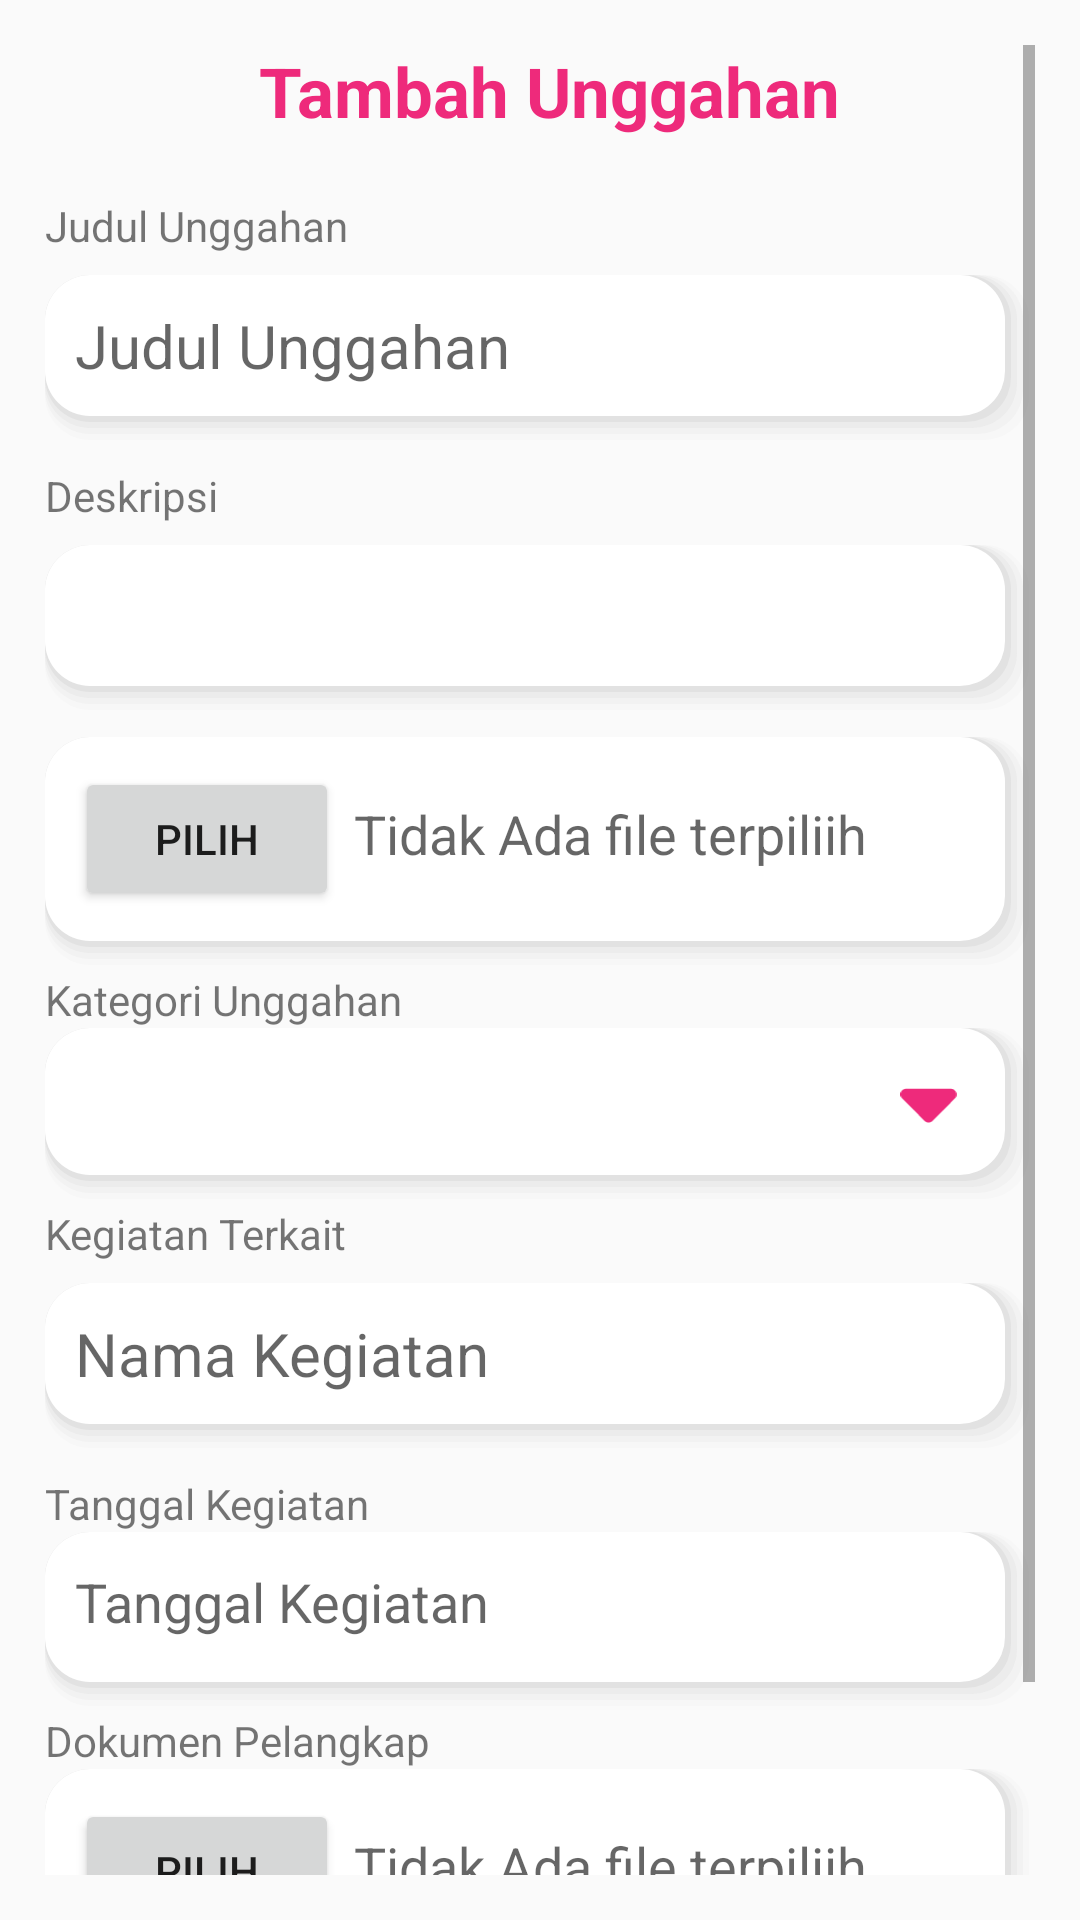

Screen size 1080px x 1920px. Icon name, then its box in pixels as Rect(x1, y1, x2, y2):
caret down: Rect(900, 1088, 957, 1123)
